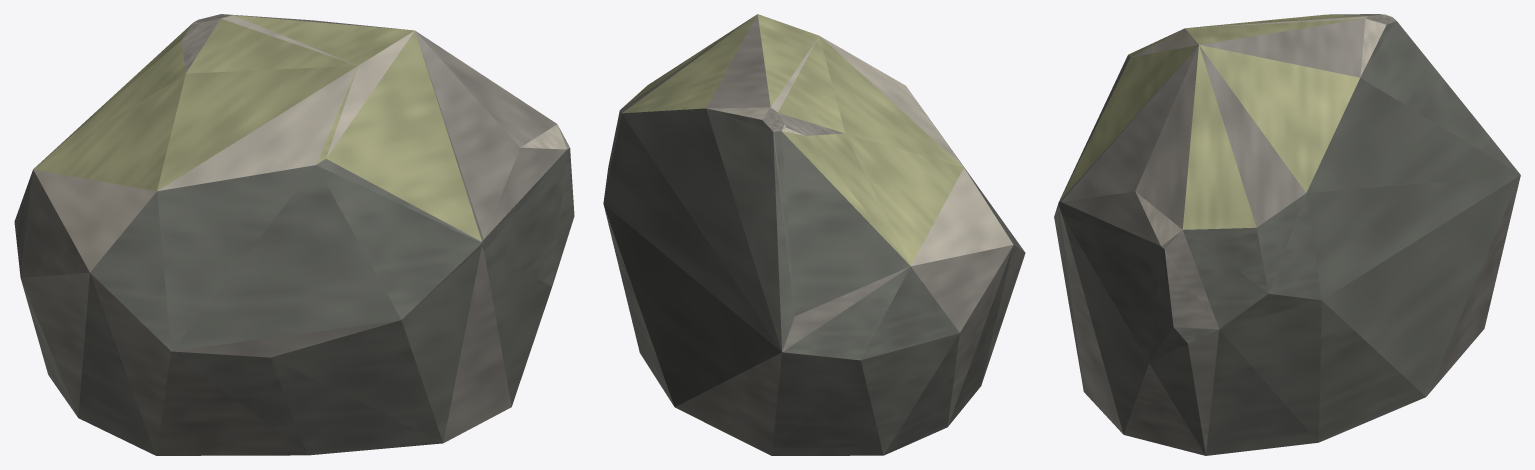
Rendered from rock_medium_02.fbx.
The picture shows the model from 3 angles, left to right: view 1: azimuth 30°, elevation 25°; view 2: azimuth 150°, elevation 25°; view 3: azimuth 270°, elevation 25°; orthographic projection. The views are drawn at different scales.
Visible parts, largest first — view 1: rock_medium_02; view 2: rock_medium_02; view 3: rock_medium_02.
Part boxes in pixels (<box>): rock_medium_02: <box>14,14,574,455</box>; rock_medium_02: <box>603,14,1025,455</box>; rock_medium_02: <box>1054,14,1520,455</box>.
Bounding box in the file's own units: 1.42 × 1.07 × 1.25.
